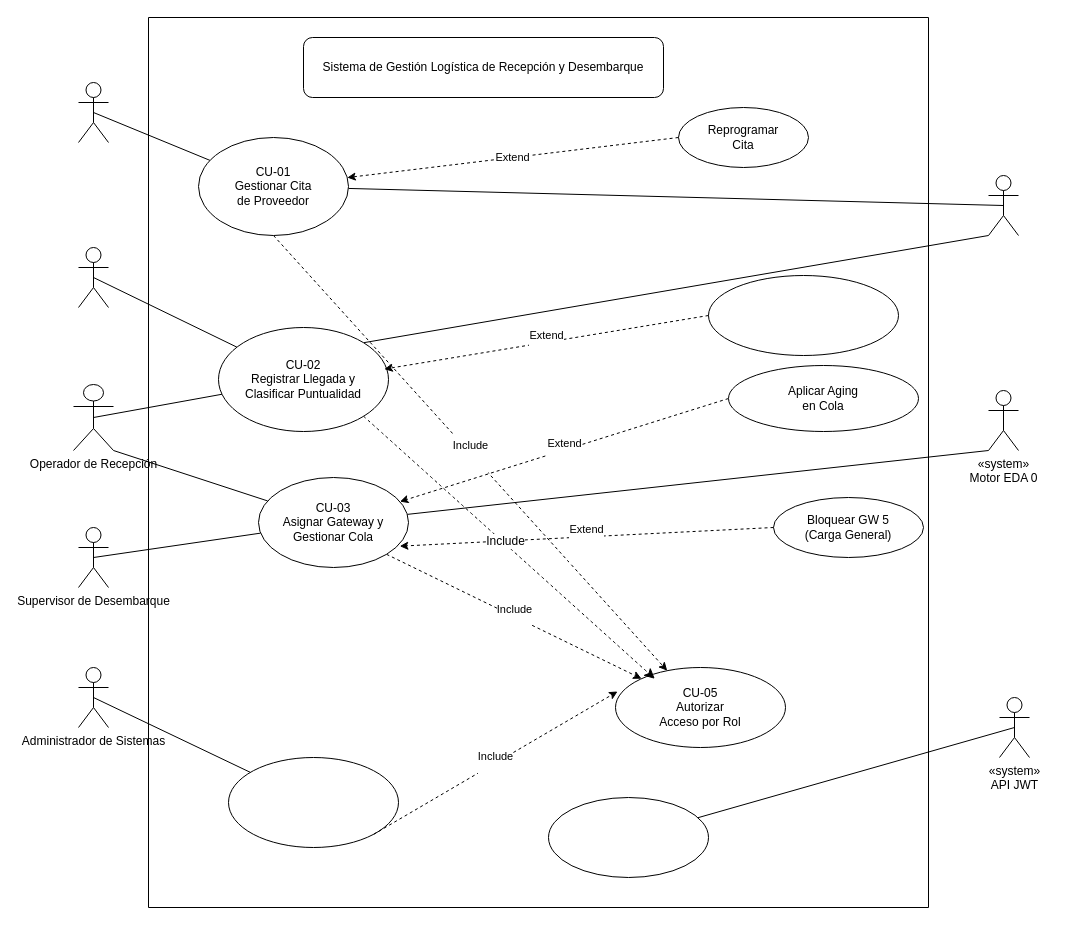
The diagram is 1077 pixels wide and 925 high, and some of its shapes have lost their labels. The shapes that lost their labels are listed below. From the top down, each one's centre as x and y in pixels, then its label:
[93,112]: Coordinador Logístico
[1003,205]: Proveedor (indirecto)
[93,277]: Gerente de Operaciones
[803,315]: Clasificar como Ausente
[313,802]: CU-06 Administrar Usuarios
[628,837]: CU-04 Autenticar Usuario
